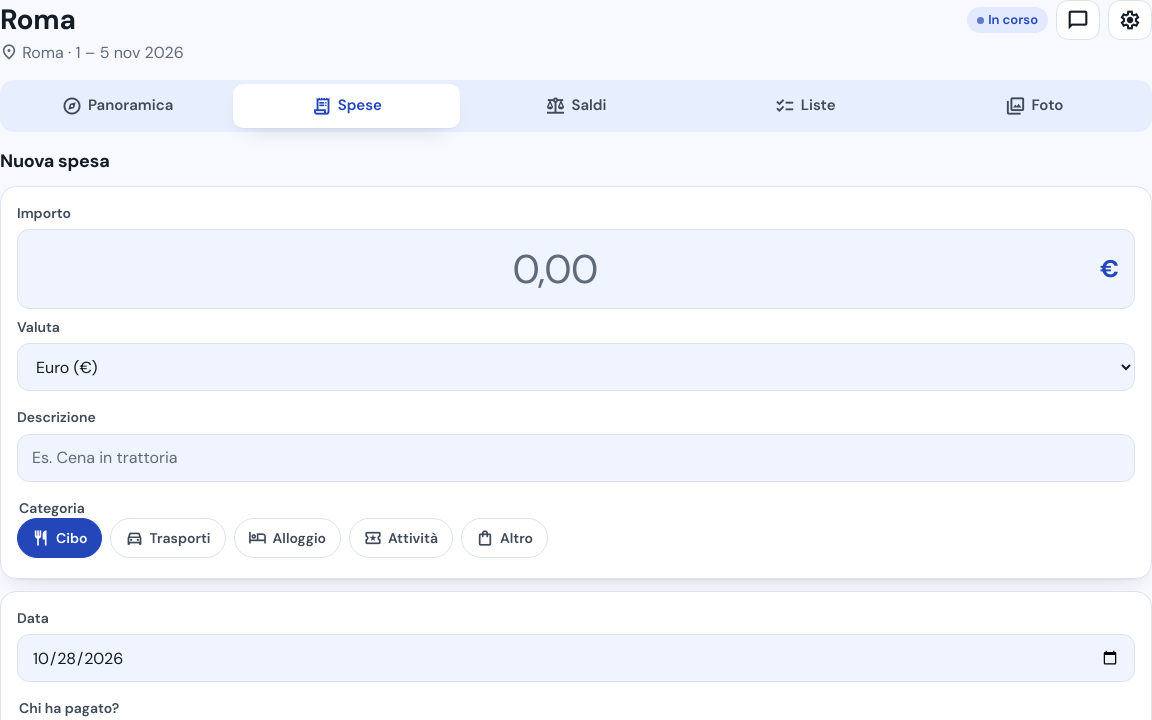
ExpenseFormPage › salvata, si torna da dove si era partiti (qui la panoramica), senza voci doppie
This screenshot has width=1152, height=720.
Type "12" into the field labelled "Importo" at (576, 269), box [17, 229, 1135, 309]
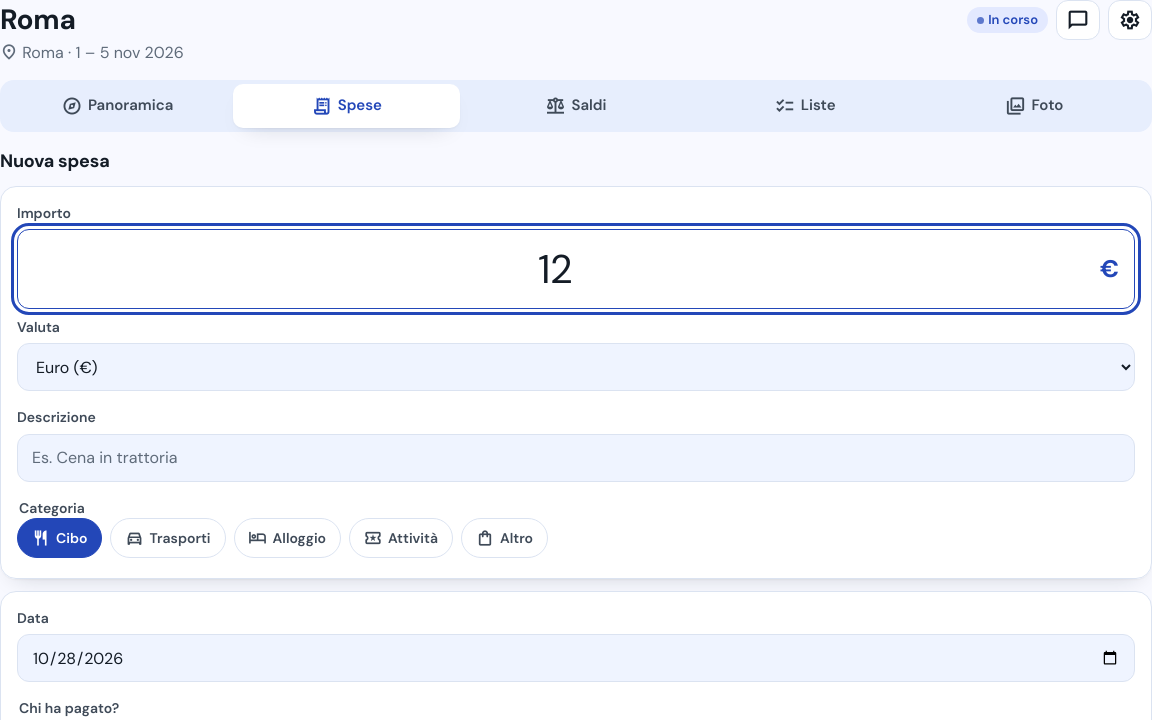
Type "Caffè" into the field labelled "Descrizione" at (576, 458), box [17, 434, 1135, 482]
(page scrolled)
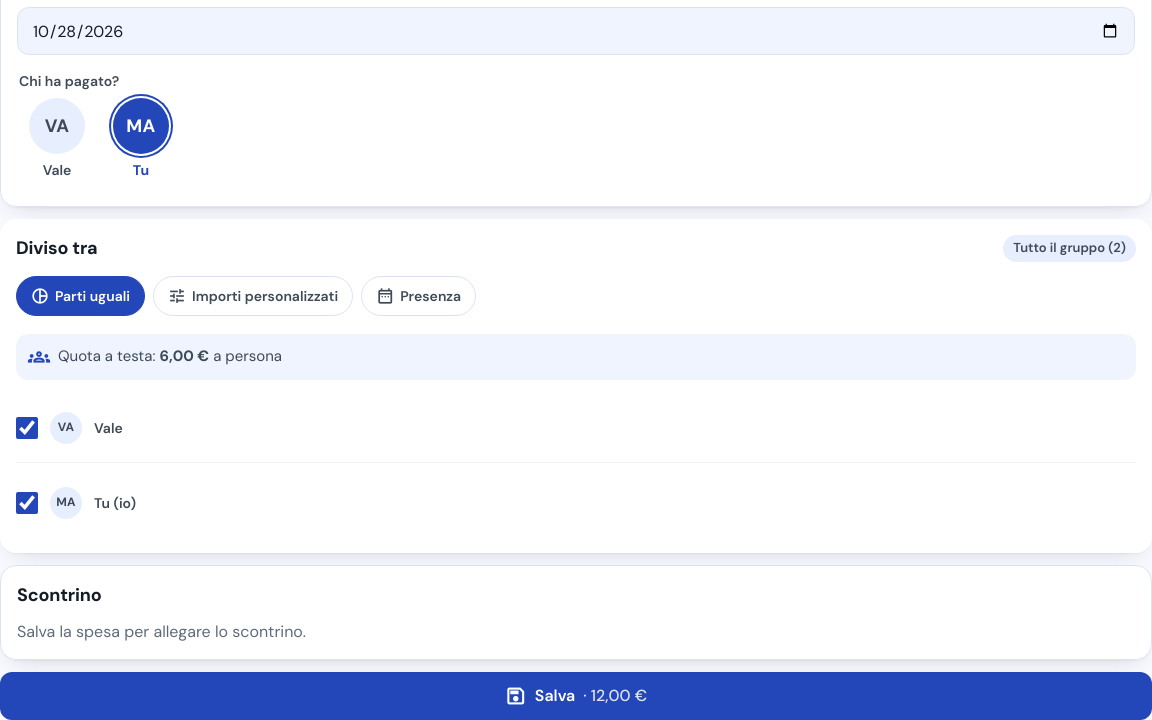
Click the button "Salva · 12,00 €" at (576, 696), box [0, 672, 1151, 719]
(page scrolled)
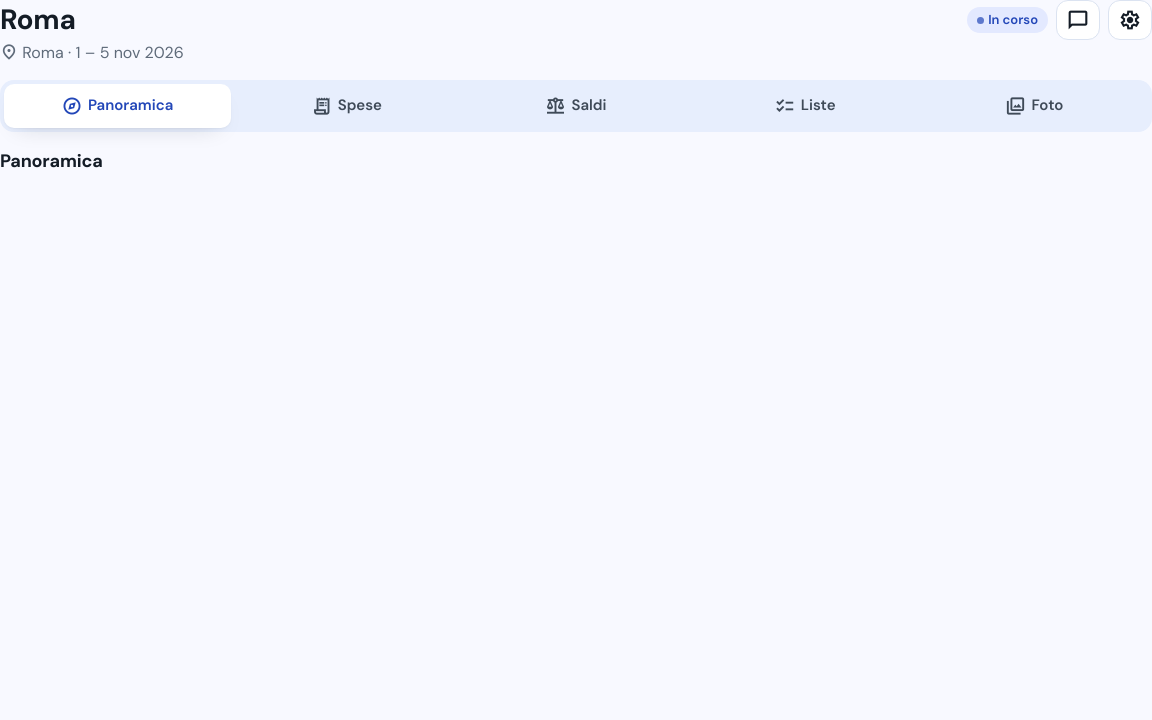
Expected: the heading "Panoramica" is shown, [0, 149, 102, 173]
